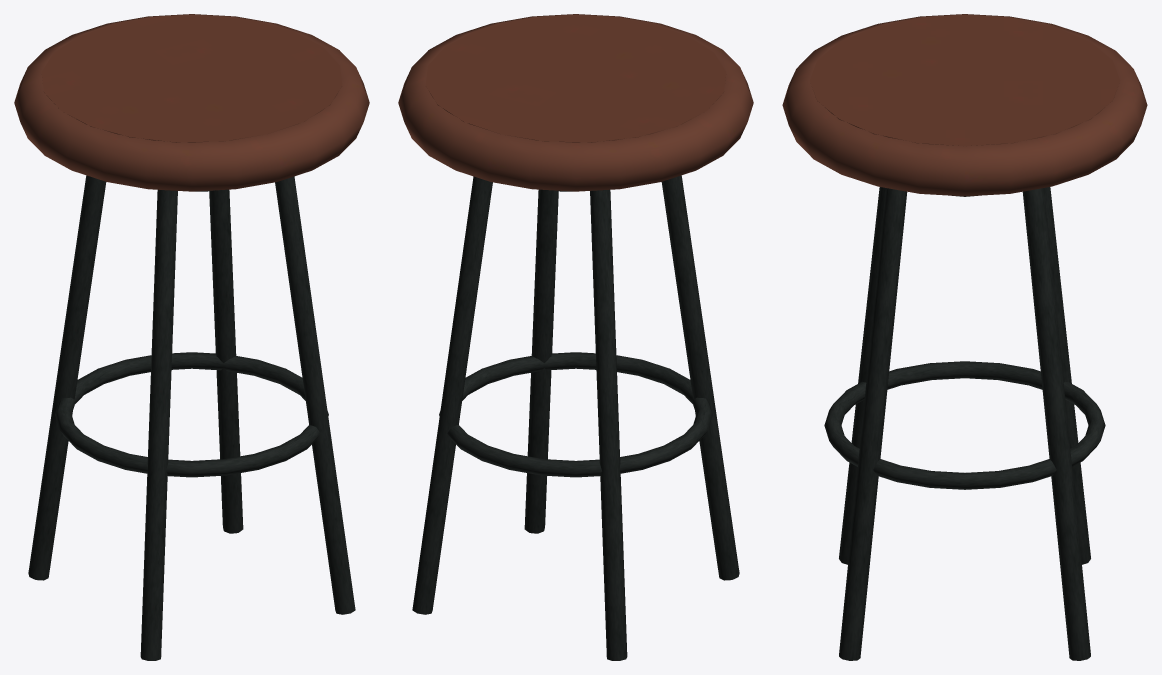
File: prop_stool.glb
3 renders of one model, left to right at view 1: azimuth 30°, elevation 25°; view 2: azimuth 150°, elevation 25°; view 3: azimuth 270°, elevation 25°, orthographic. The views are drawn at different scales.
Parts seen in each view (by area): view 1: prop; view 2: prop; view 3: prop.
Boxes of the visible parts, left/top/right/bottom form: prop: left=14, top=14, right=369, bottom=660; prop: left=398, top=14, right=753, bottom=660; prop: left=782, top=14, right=1147, bottom=660.
Bounding box in the file's own units: 0.47 × 0.7519 × 0.47.
Materials: 2 (2 with a texture image).
